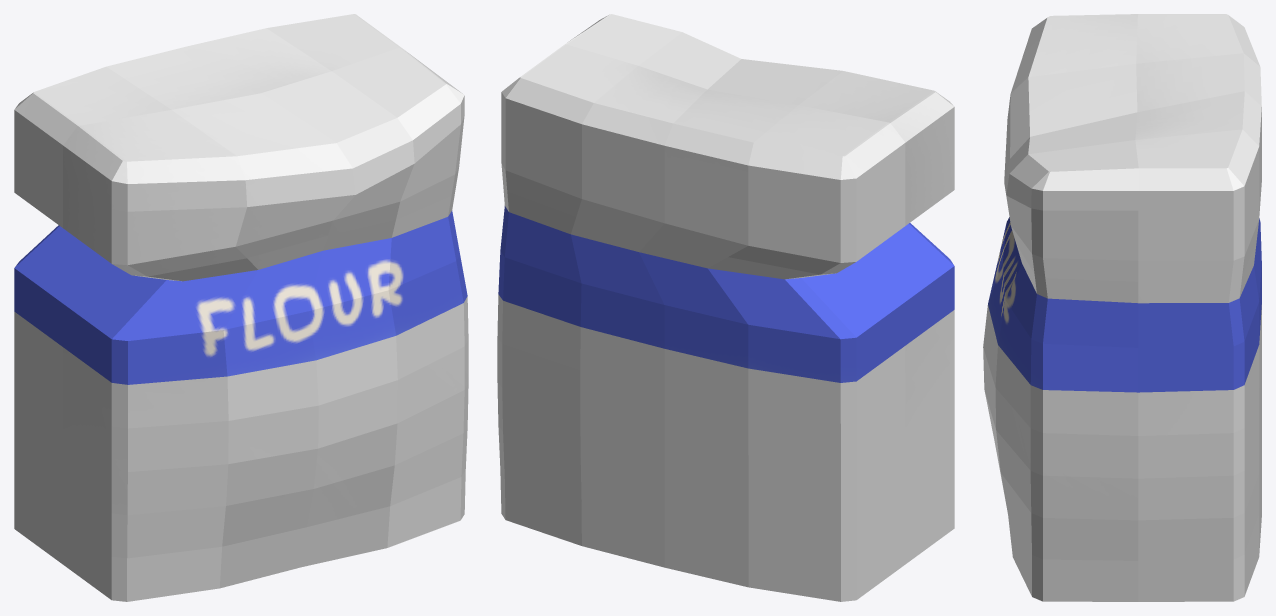
File: Flour.fbx
The picture shows the model from 3 angles, left to right: view 1: azimuth 30°, elevation 25°; view 2: azimuth 150°, elevation 25°; view 3: azimuth 270°, elevation 25°; orthographic projection. The views are drawn at different scales.
Parts seen in each view (by area): view 1: Flour; view 2: Flour; view 3: Flour.
Boxes of the visible parts, box(x1,y1,x2,y2) form: Flour: box(14, 14, 468, 601); Flour: box(497, 14, 954, 601); Flour: box(983, 14, 1261, 601).
Bounding box in the file's own units: 93.15 × 157 × 137.
